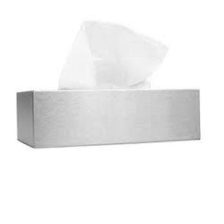book: (11, 81, 207, 153)
tissue: (50, 13, 176, 96)
